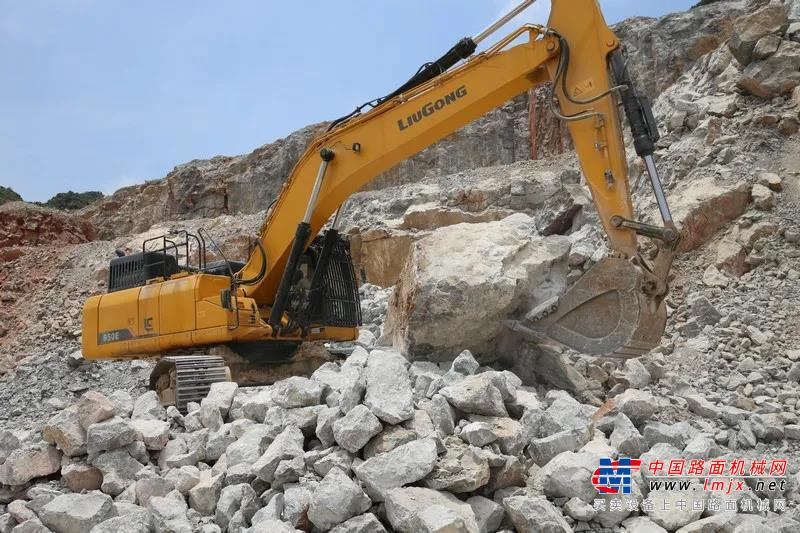excavator: (66, 3, 701, 414)
